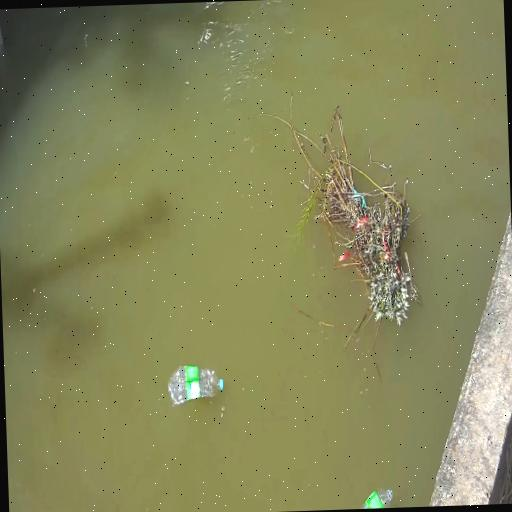plastic: (168, 366, 223, 405), (362, 490, 392, 508)
twig: (257, 93, 420, 352)
